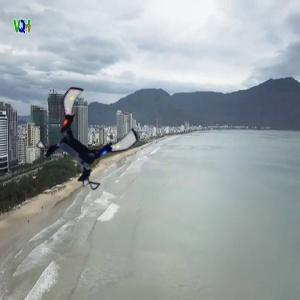drone: (41, 94, 130, 183)
